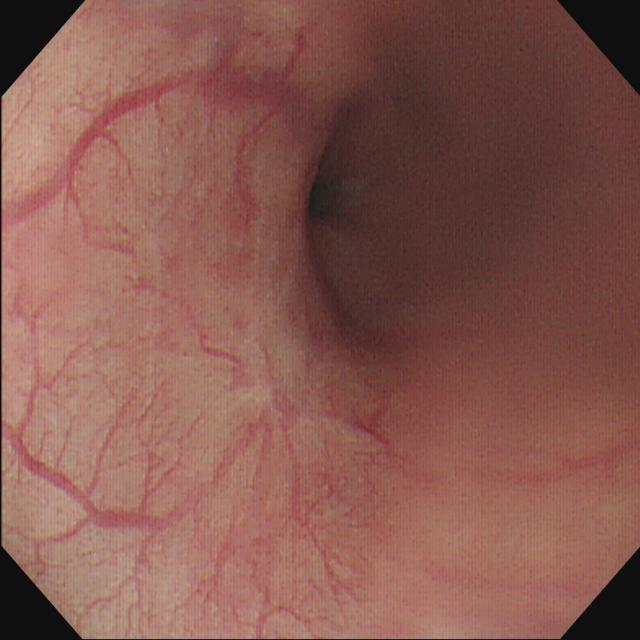A: (154, 34, 323, 141), (329, 400, 396, 449)
